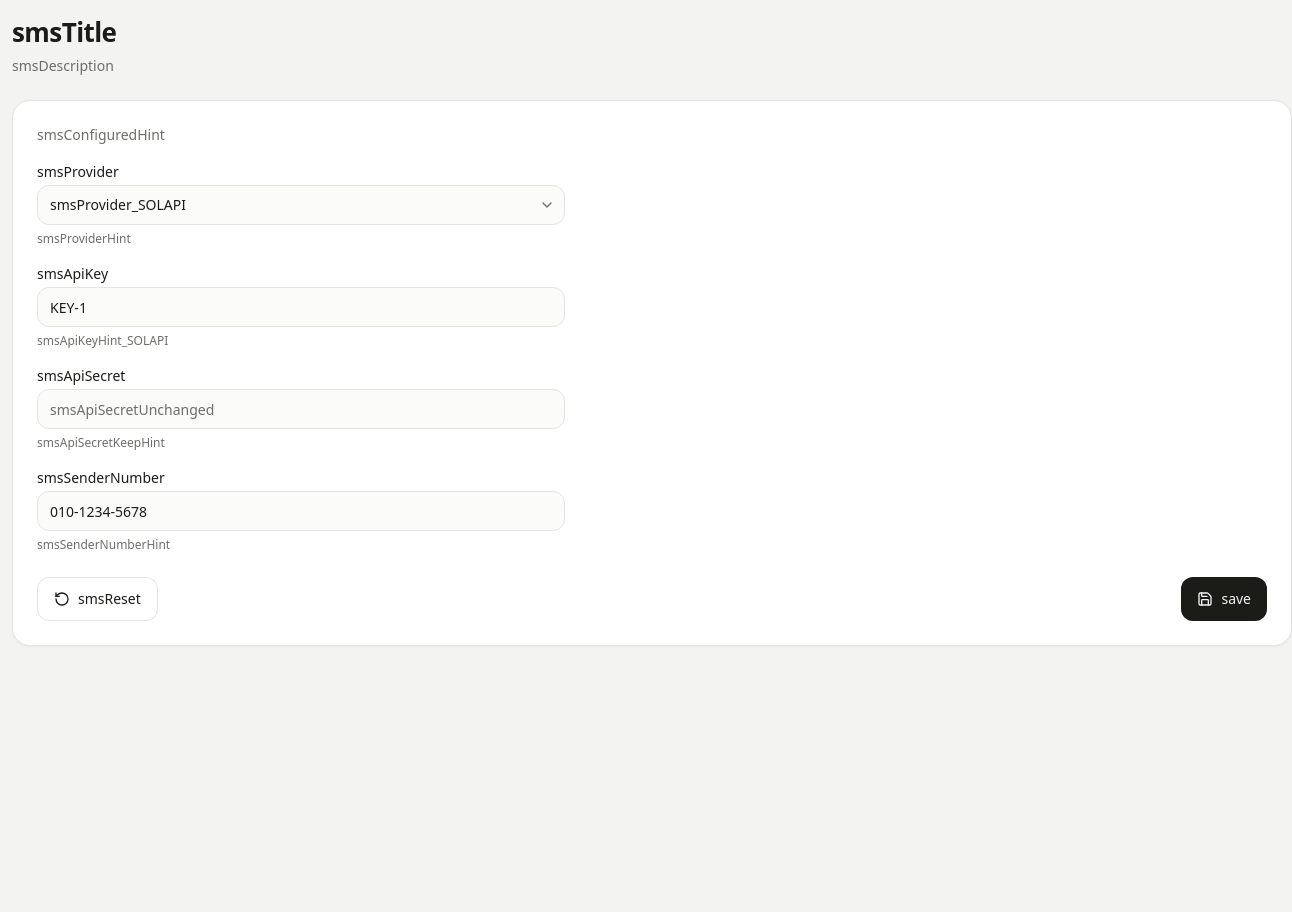
Test case: SmsSettings › refuses a malformed sending number before sending it
This screenshot has width=1292, height=912.
Check: the field showing "KEY-1" is shown, box [37,287,565,327]
Type "010 not a number" into the field showing "010-1234-5678". click: (301, 511)
box: [37,491,565,531]
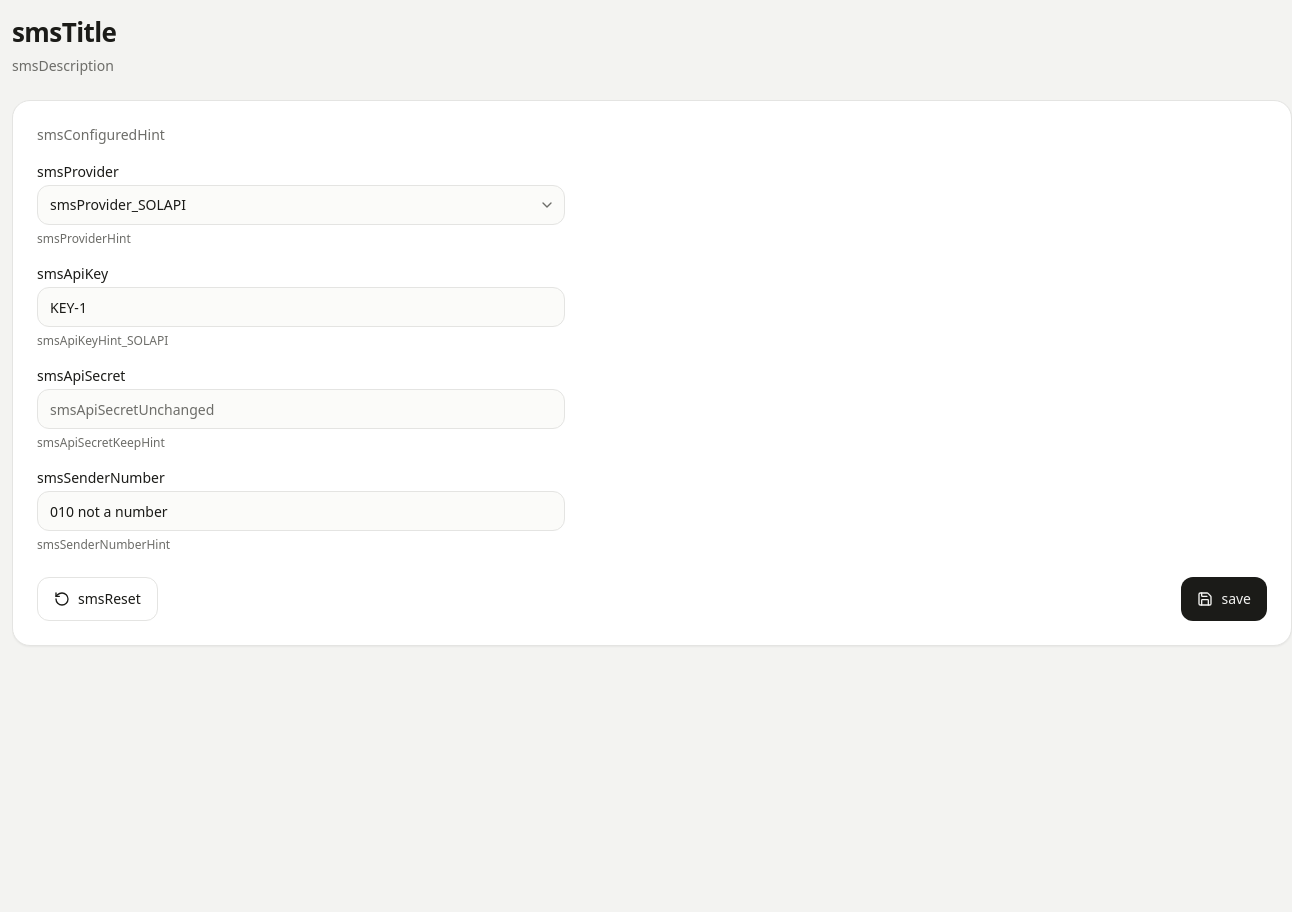
Click the button "save". click: (1224, 599)
box: [1181,577,1267,621]
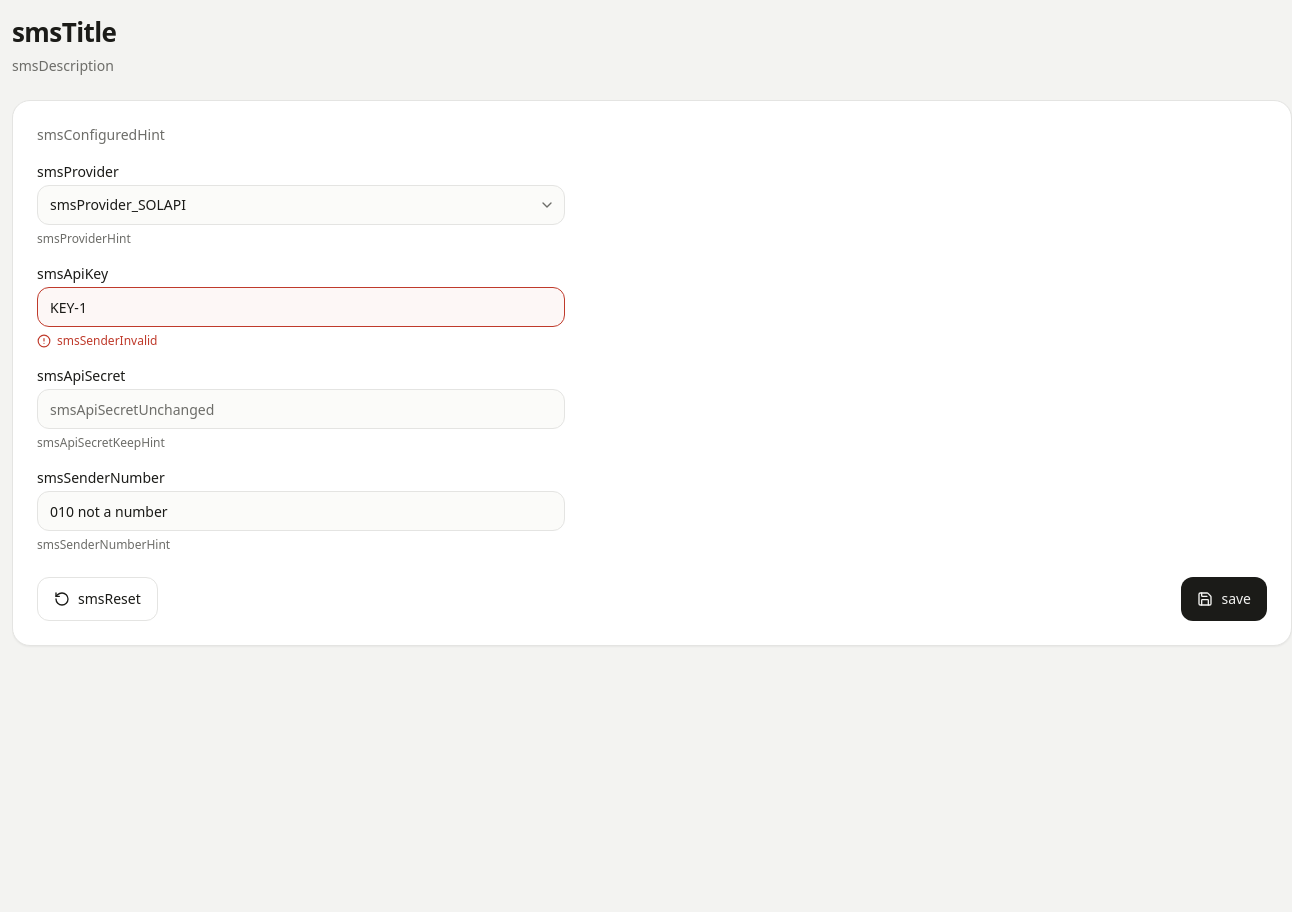
Check: the text "smsSenderInvalid" is shown, box [57,333,158,349]
